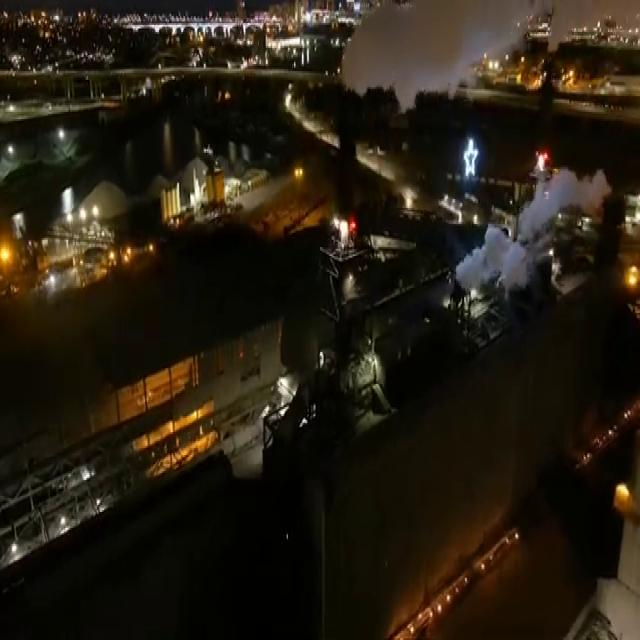smoke: (341, 0, 534, 110), (512, 164, 613, 256), (456, 219, 531, 295)
